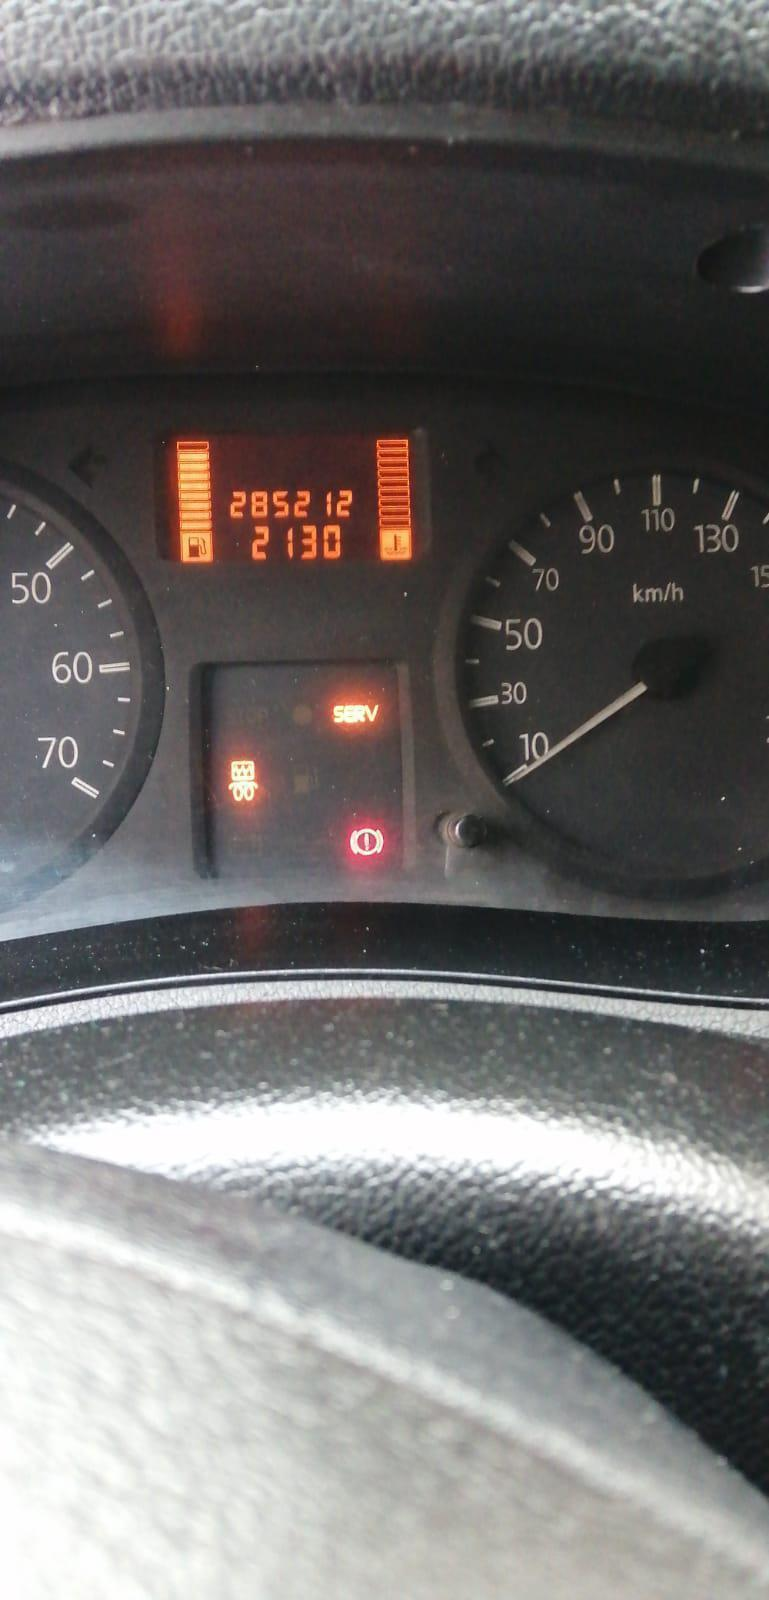0: (322, 523, 341, 559)
1: (286, 526, 293, 559), (325, 490, 332, 517)
2: (250, 524, 269, 560), (335, 489, 352, 517), (293, 490, 310, 518), (229, 490, 246, 519)
3: (299, 524, 317, 560)
5: (272, 490, 289, 518)
8: (250, 490, 268, 519)
odometer: (153, 424, 424, 570)
